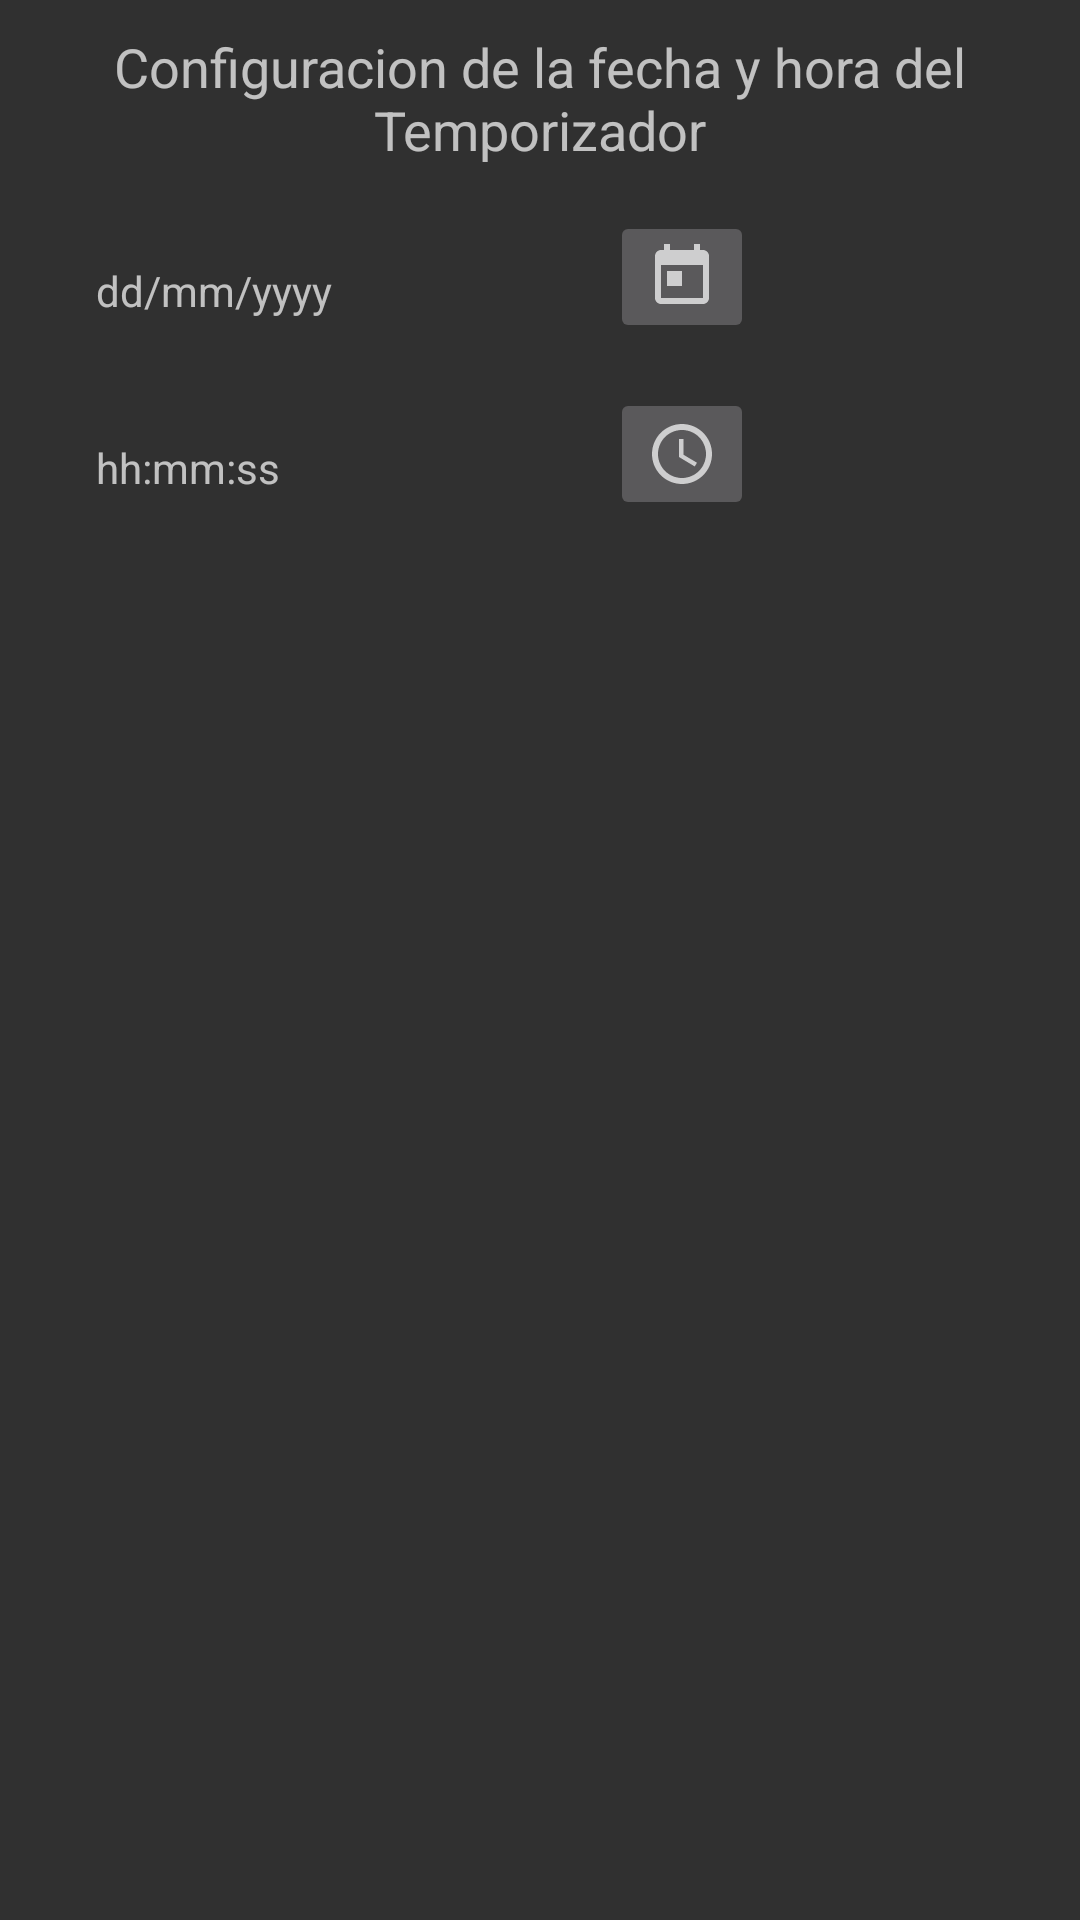

Icons on this 1080w x 1920h Android screen, each with its box as (x1, y1, x2, y2):
schedule: (622, 406, 742, 502)
today: (622, 229, 742, 325)
